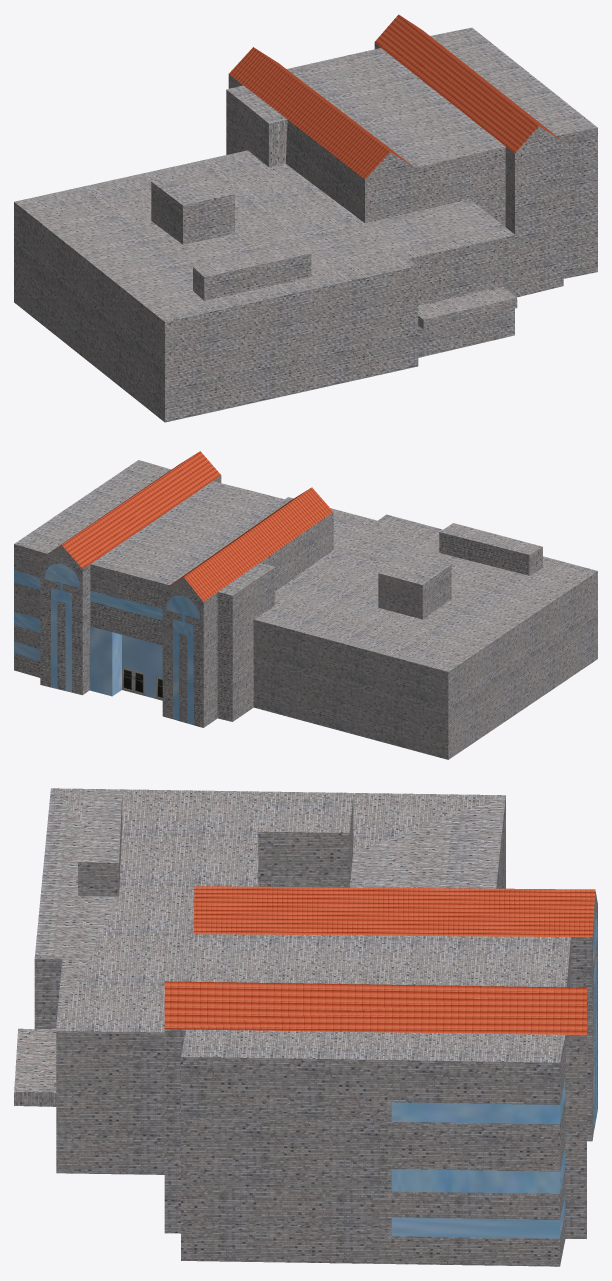
Rendered from LibraryTexturedV3.gltf.
The picture shows the model from 3 angles, top to bottom: view 1: azimuth 30°, elevation 25°; view 2: azimuth 150°, elevation 25°; view 3: azimuth 270°, elevation 25°; orthographic projection. The views are drawn at different scales.
Parts seen in each view (by area): view 1: DavisLibrary_0; view 2: DavisLibrary_0; view 3: DavisLibrary_0.
Part boxes in pixels (bbox=[...]): DavisLibrary_0: bbox=[14, 14, 597, 422]; DavisLibrary_0: bbox=[14, 451, 597, 759]; DavisLibrary_0: bbox=[14, 788, 597, 1266].
Bounding box in the file's own units: 73.41 × 24.17 × 53.9.
Materials: 4 (4 with a texture image).
